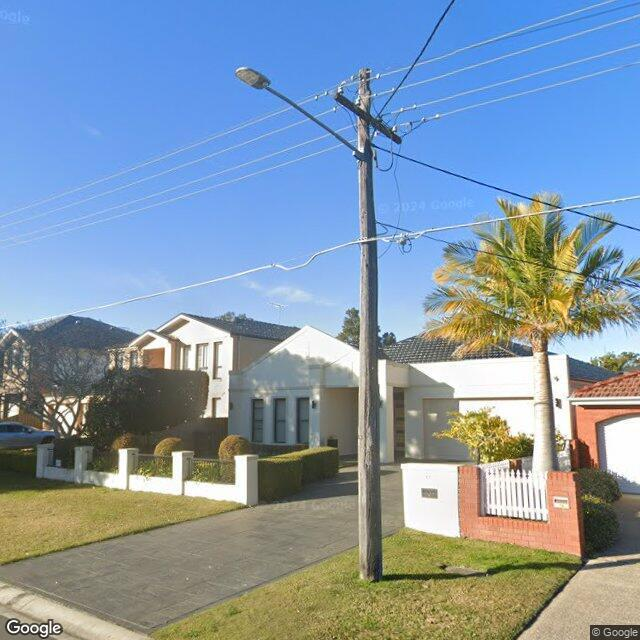crossarm: (328, 88, 402, 145)
streetlight: (234, 66, 367, 162)
timber-pole: (358, 69, 382, 582)
